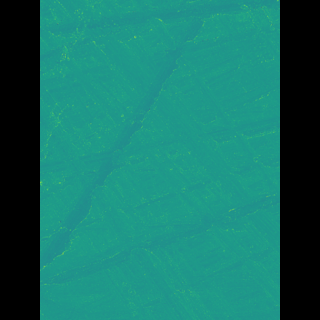Loch: (71, 0, 250, 320), (69, 7, 196, 271)
